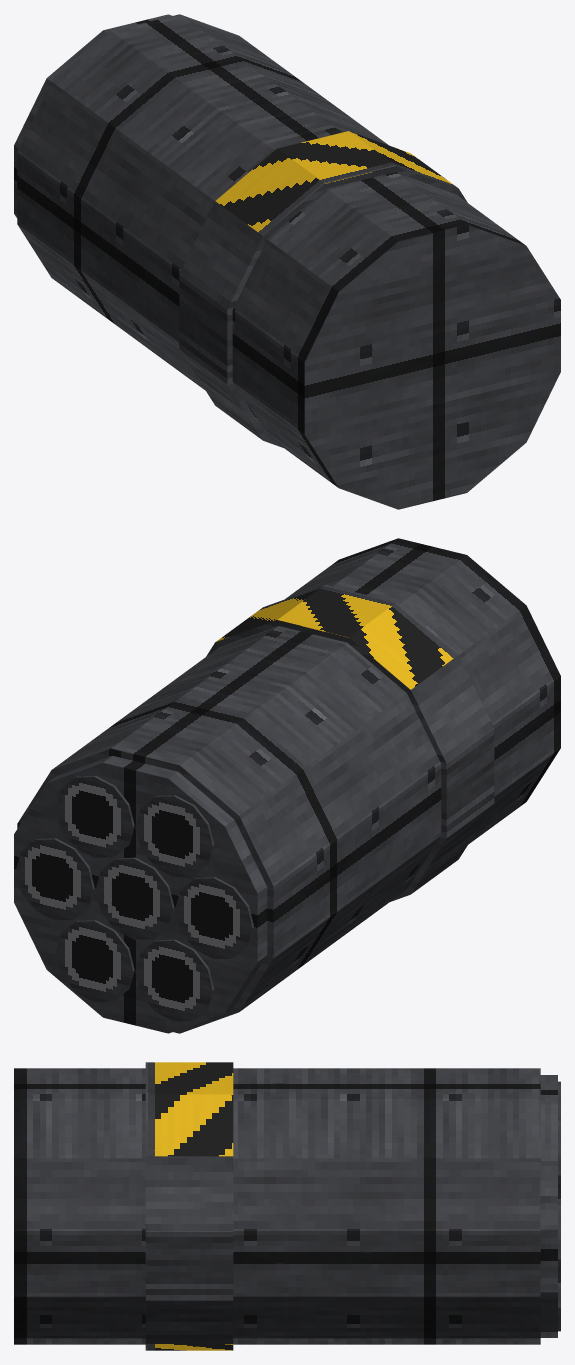
File: rack_port_arsenal.glb
3 renders of one model, top to bottom at view 1: azimuth 30°, elevation 25°; view 2: azimuth 150°, elevation 25°; view 3: azimuth 270°, elevation 25°, orthographic. The views are drawn at different scales.
Visible parts, largest first — view 1: rack, rack_band, rack_face; view 2: rack, rack_band, rack_face, rack_tube.005, rack_tube.004, rack_tube, rack_tube.001, rack_tube.002, rack_tube.006, rack_tube.003; view 3: rack, rack_band, rack_face.
Boxes of the visible parts, x1=… form: rack: x1=17, y1=14, x2=560, y2=509; rack_band: x1=179, y1=131, x2=467, y2=447; rack_face: x1=14, y1=14, x2=172, y2=218; rack: x1=17, y1=538, x2=560, y2=1033; rack_band: x1=206, y1=585, x2=494, y2=901; rack_face: x1=14, y1=756, x2=267, y2=1033; rack_tube.005: x1=135, y1=939, x2=214, y2=1021; rack_tube.004: x1=175, y1=877, x2=253, y2=959; rack_tube: x1=95, y1=857, x2=174, y2=939; rack_tube.001: x1=16, y1=838, x2=94, y2=920; rack_tube.002: x1=55, y1=775, x2=134, y2=857; rack_tube.006: x1=55, y1=920, x2=134, y2=1002; rack_tube.003: x1=135, y1=795, x2=214, y2=877; rack: x1=14, y1=1068, x2=540, y2=1344; rack_band: x1=145, y1=1062, x2=233, y2=1350; rack_face: x1=540, y1=1075, x2=557, y2=1337.
Size of the model in its own units: 9.66 by 9.66 by 18.7.
Materials: 4 (4 with a texture image).
